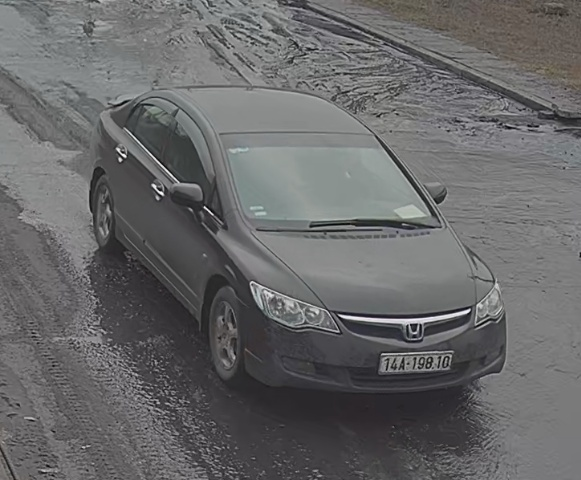vehicle plate: (373, 348, 465, 379)
